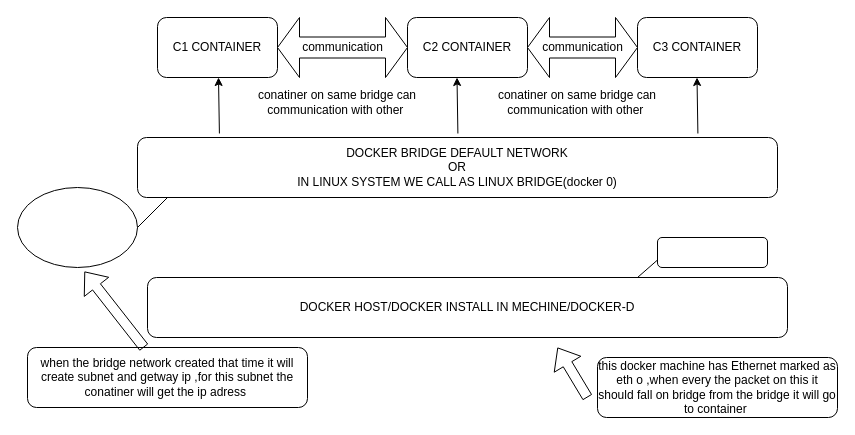
Image size: 855x435. Some labels were removed from this diagram. Here are the shapes that lost their labels. From the top down, the centre of each, then its label:
the point at 77,227: SUBNET GETWAY IP
the point at 712,252: eth0
